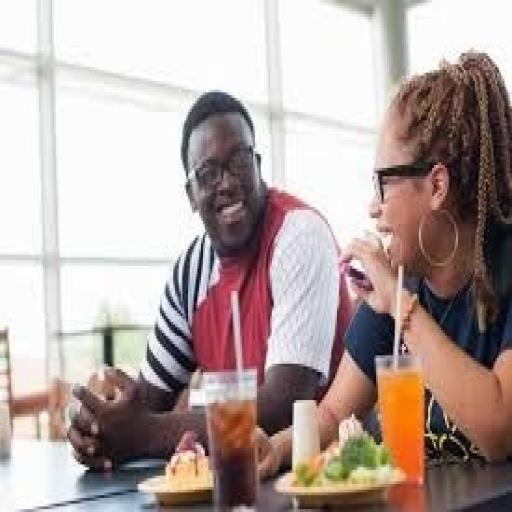eating: (63, 48, 510, 481)
